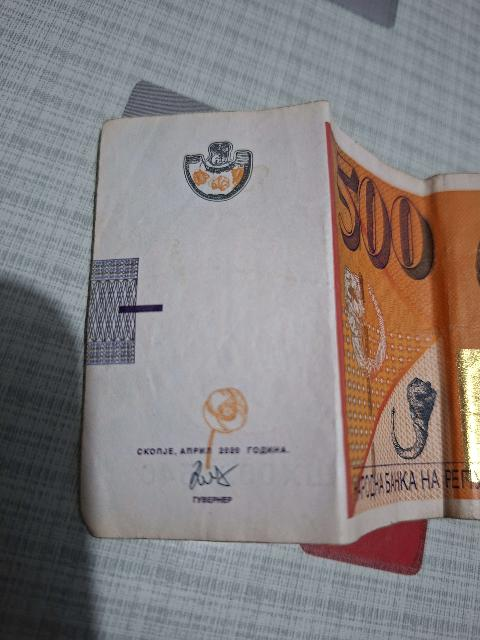500_note: (77, 103, 479, 544)
